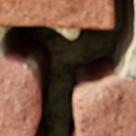brick: (0, 0, 112, 28)
broken_brick: (75, 76, 135, 135), (0, 56, 38, 135)
crack: (0, 0, 135, 135)
